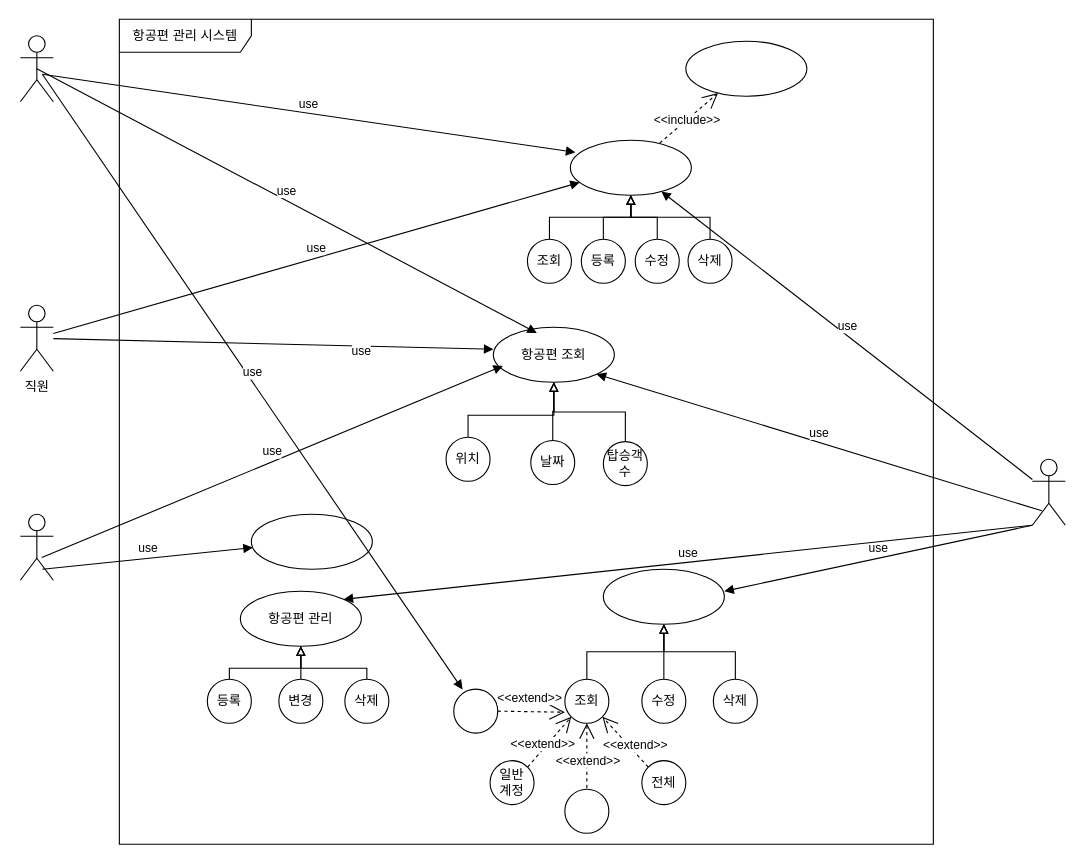
This 1086x864 diagram has some shape labels left out. The shapes that lost their labels are listed below. From the top down, each one's centre as x and y in pixels, then its label:
At point 36,68: "회원".
At point 746,68: "로그인".
At point 630,167: "예매 관리".
At point 1048,491: "관리자".
At point 36,546: "비회원".
At point 311,541: "회원가입".
At point 663,596: "회원관리".
At point 475,710: "나의 정보".
At point 586,810: "직원 계정".
